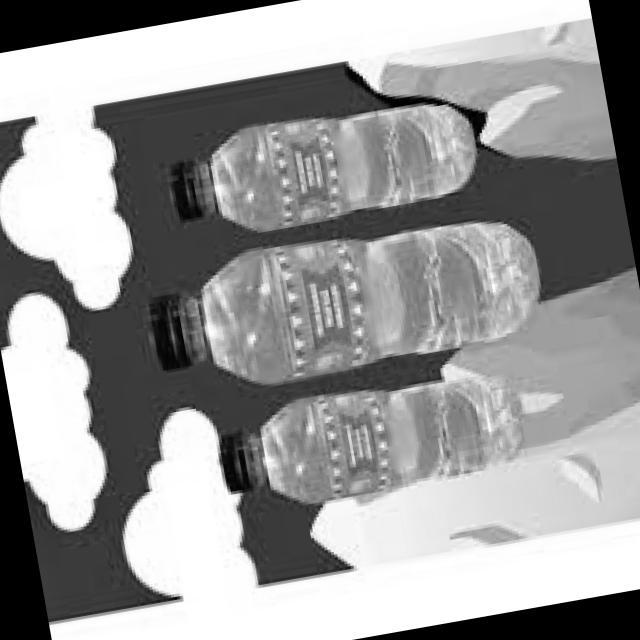good: (132, 202, 556, 412), (136, 86, 482, 262), (205, 358, 540, 524)
